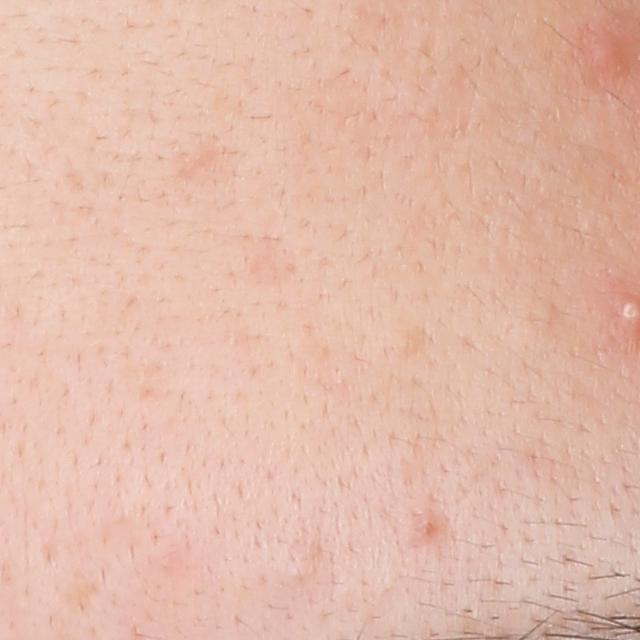papule: (587, 32, 640, 78)
